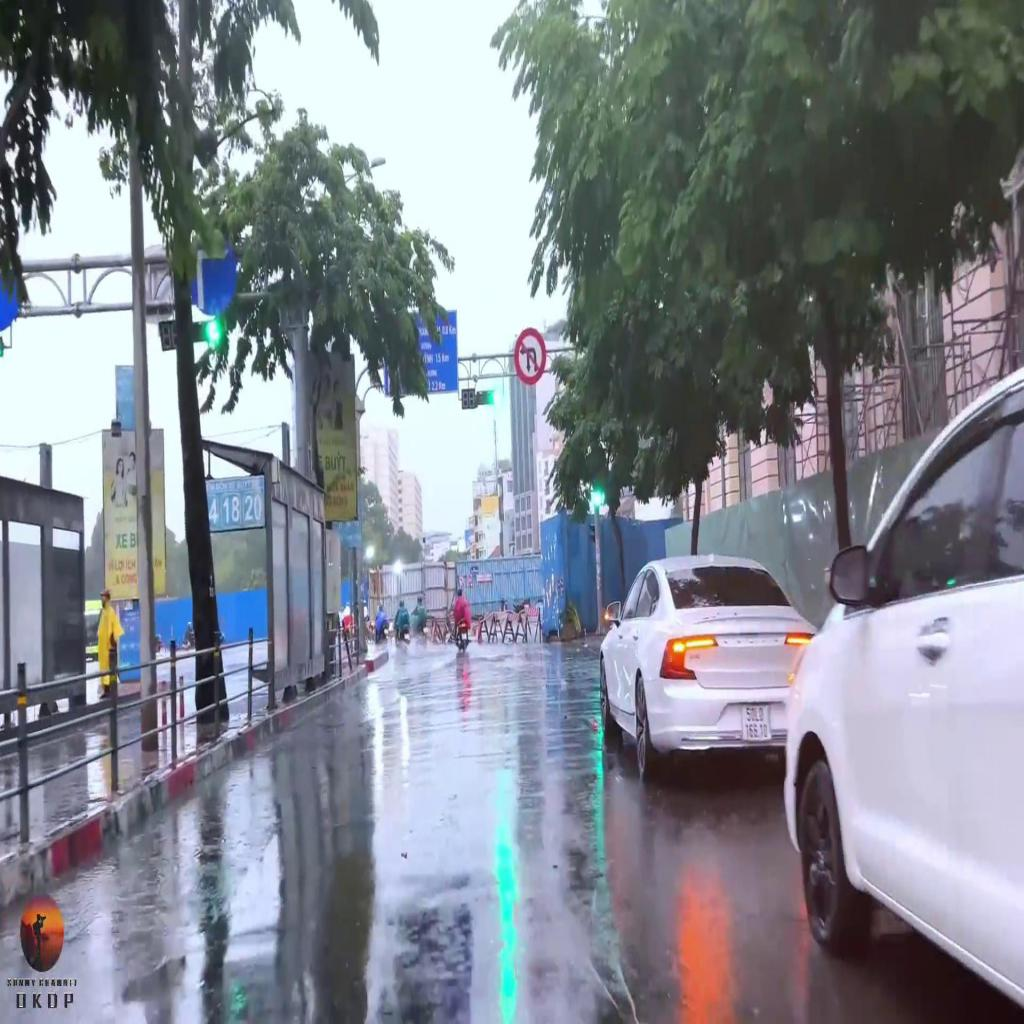khac: (516, 325, 546, 381)
